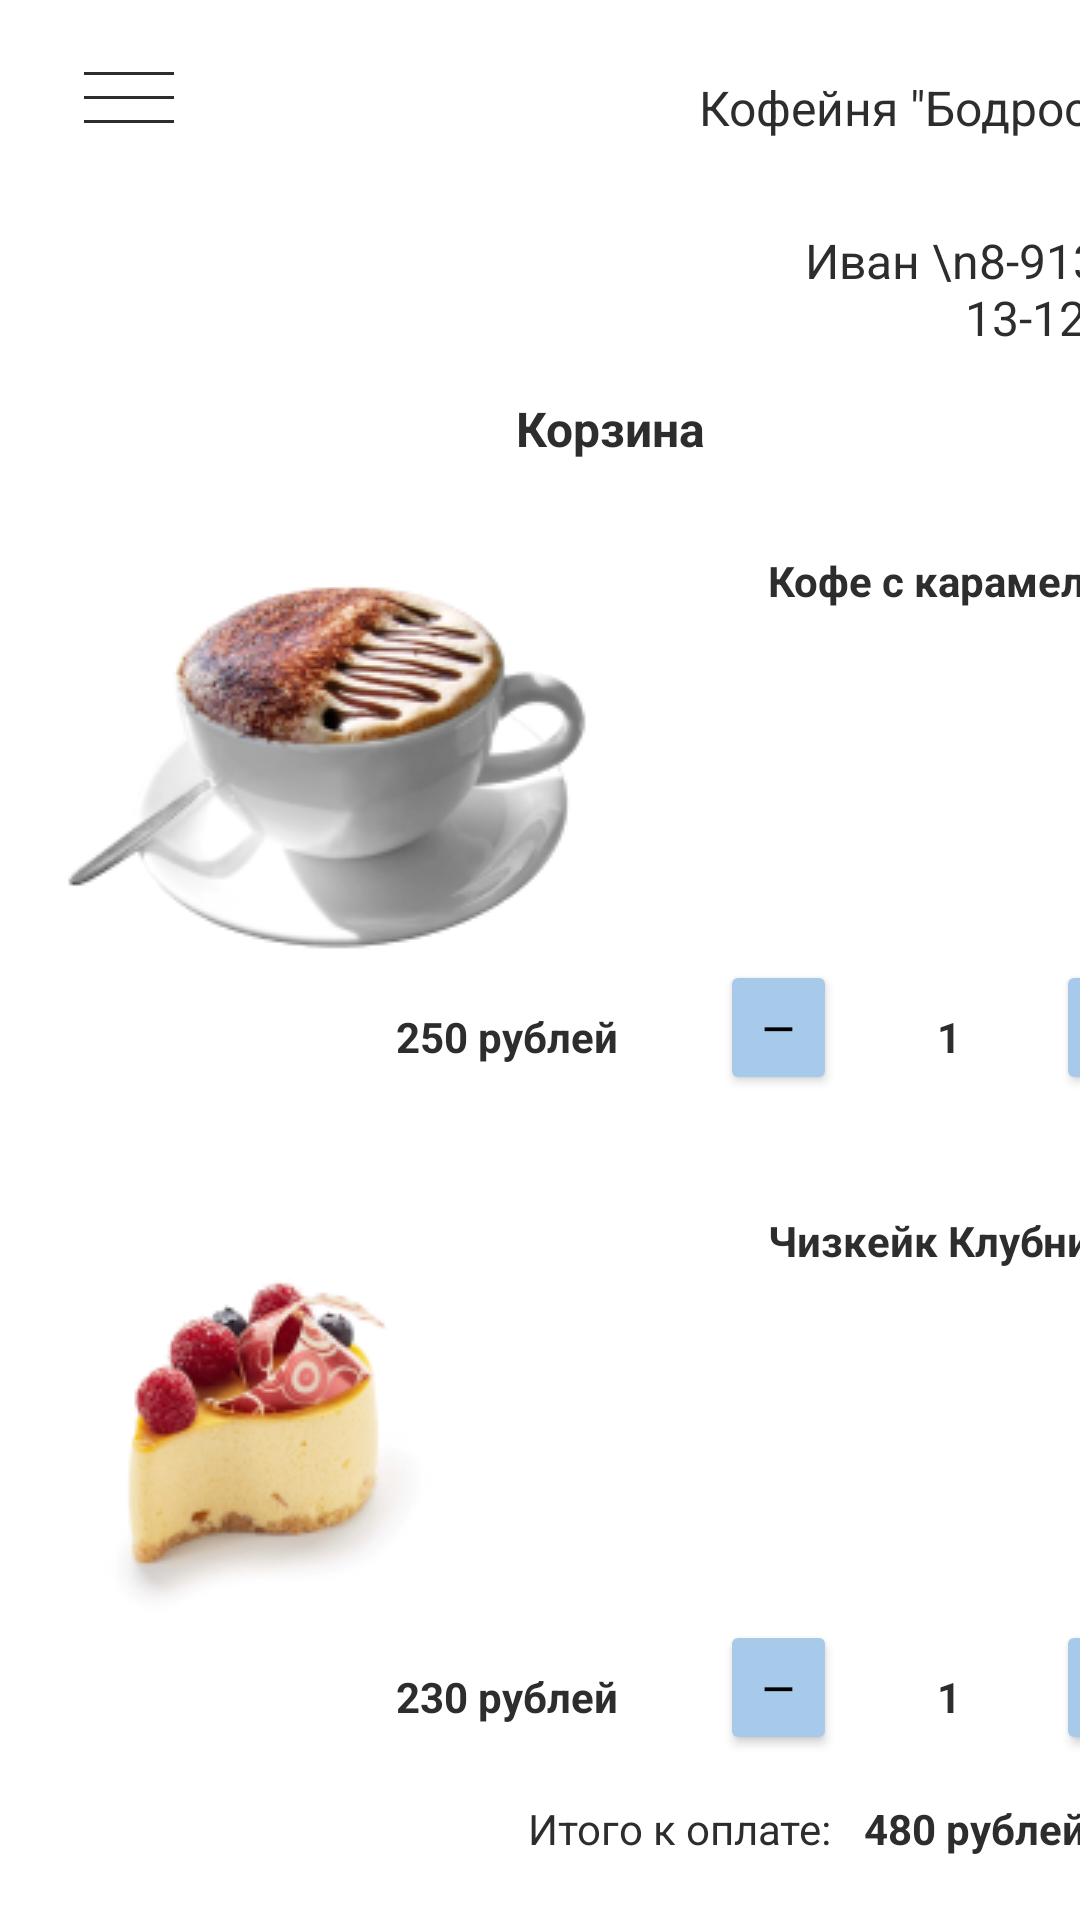

Icon click points for this 1080x1920 phone screenshot, format (x,y):
sweets: (256,1436)
